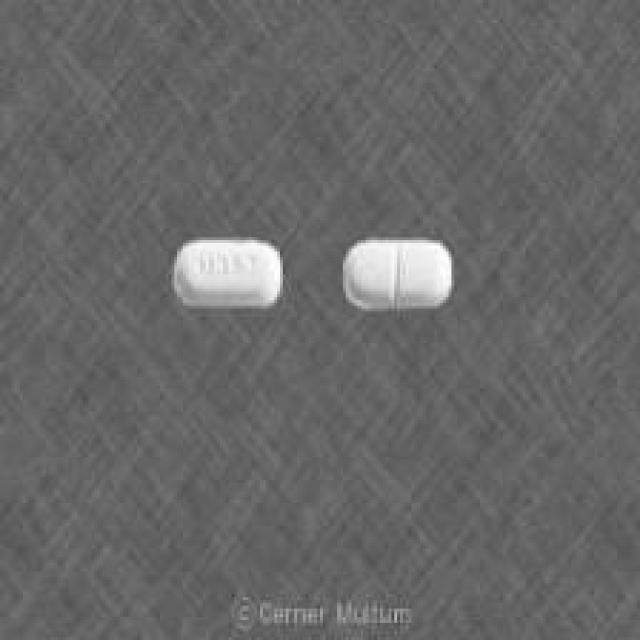Medicine: (137, 214, 308, 330), (324, 218, 486, 338)
